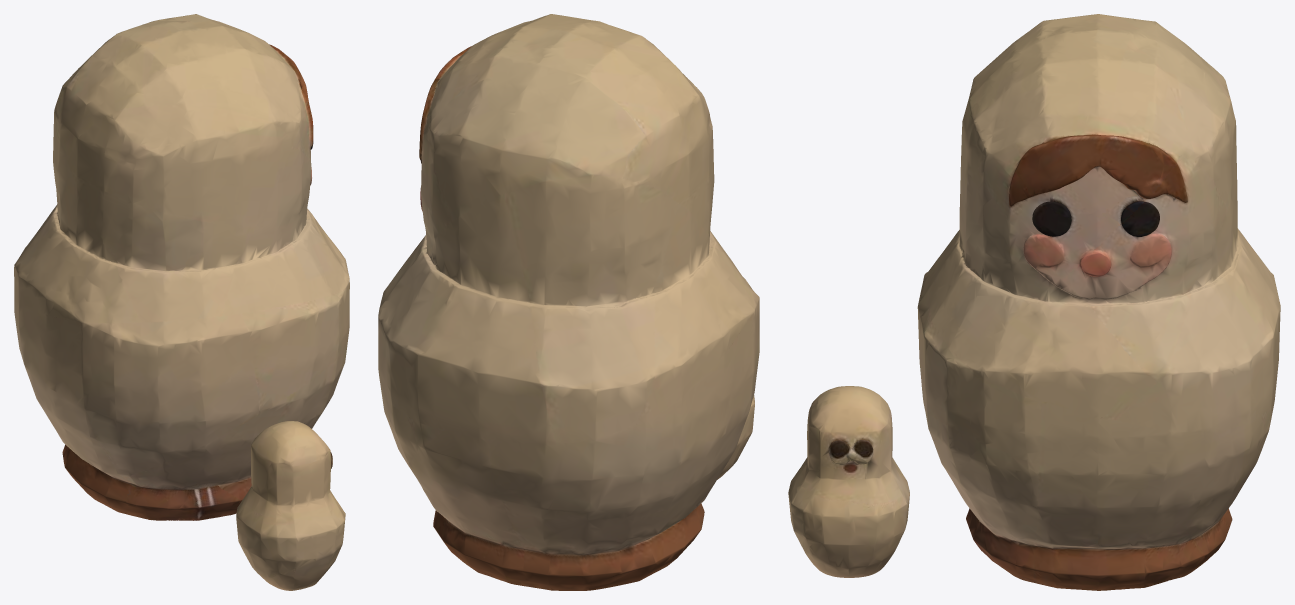
Rendered from matryoshka-web.glb.
3 renders of one model, left to right at view 1: azimuth 30°, elevation 25°; view 2: azimuth 150°, elevation 25°; view 3: azimuth 270°, elevation 25°, orthographic. The views are drawn at different scales.
Parts seen in each view (by area): view 1: tripo_node_1f04a48a-531b-4e31-b1a5-ca37019ed704; view 2: tripo_node_1f04a48a-531b-4e31-b1a5-ca37019ed704; view 3: tripo_node_1f04a48a-531b-4e31-b1a5-ca37019ed704.
Part boxes in pixels (<box>): tripo_node_1f04a48a-531b-4e31-b1a5-ca37019ed704: <box>14,14,349,590</box>; tripo_node_1f04a48a-531b-4e31-b1a5-ca37019ed704: <box>378,14,759,590</box>; tripo_node_1f04a48a-531b-4e31-b1a5-ca37019ed704: <box>788,14,1280,590</box>.
Bounding box in the file's own units: 0.6055 × 0.9998 × 0.8297.
1 material, 1 textured.
